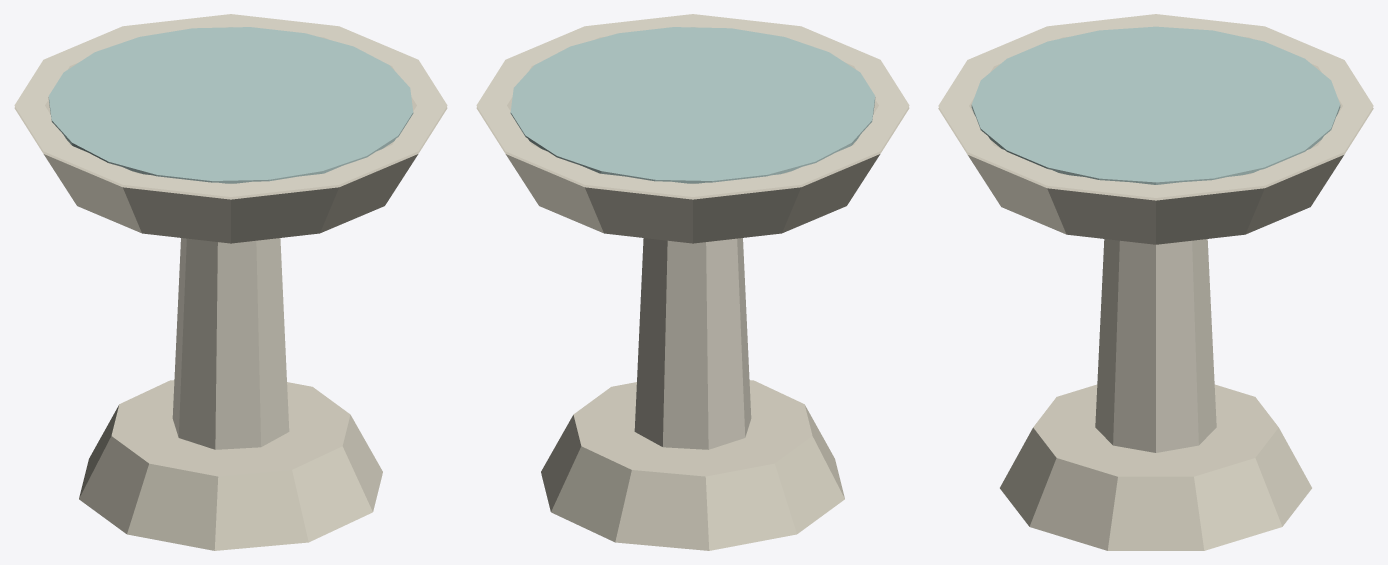
File: birdbath.fbx
3 renders of one model, left to right at view 1: azimuth 30°, elevation 25°; view 2: azimuth 150°, elevation 25°; view 3: azimuth 270°, elevation 25°, orthographic.
Parts seen in each view (by area): view 1: birdbath_geometry; view 2: birdbath_geometry; view 3: birdbath_geometry.
Part boxes in pixels (bbox=[...]): birdbath_geometry: bbox=[14, 14, 447, 550]; birdbath_geometry: bbox=[476, 14, 909, 550]; birdbath_geometry: bbox=[938, 14, 1373, 550].
Size of the model in its own units: 0.78 by 0.758 by 0.78.
